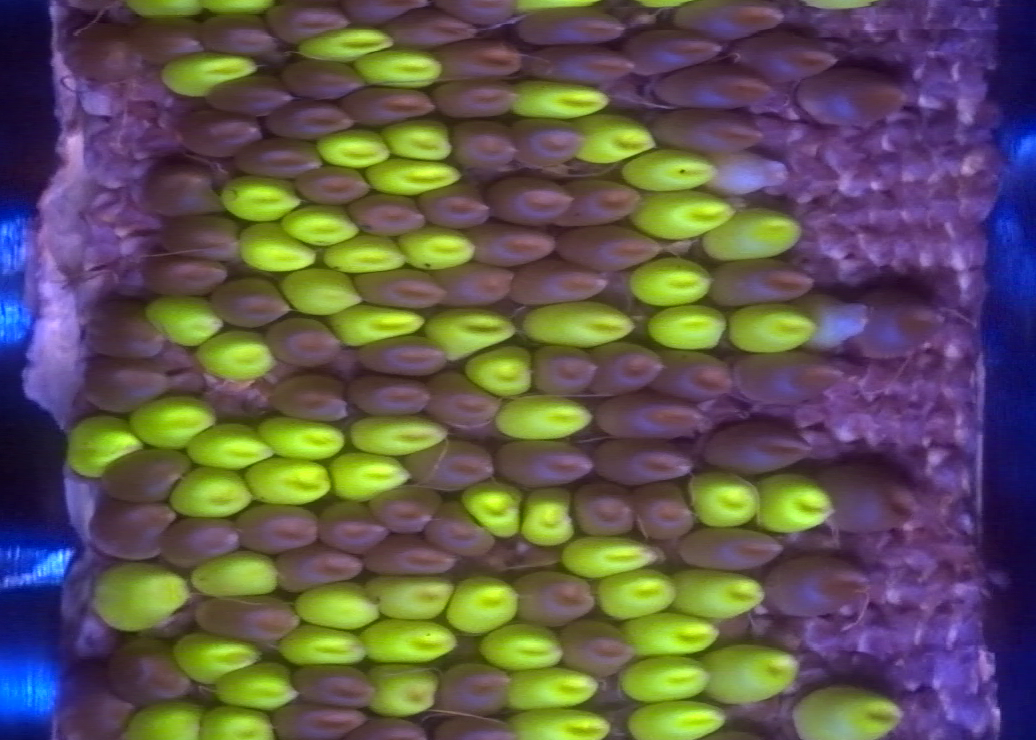fluorescent: (631, 188, 736, 240), (792, 691, 899, 738), (670, 567, 766, 618), (95, 567, 185, 621), (702, 650, 793, 703), (524, 302, 634, 344), (755, 476, 833, 534), (165, 467, 250, 519), (174, 634, 263, 682), (706, 213, 800, 258), (687, 467, 757, 527), (424, 309, 517, 354), (353, 411, 442, 458), (730, 301, 815, 350), (262, 412, 344, 462), (242, 460, 331, 506), (367, 573, 452, 620), (68, 416, 137, 473), (567, 115, 653, 159), (334, 300, 422, 343), (158, 54, 252, 94), (493, 395, 587, 435), (502, 667, 595, 707), (130, 400, 216, 443), (361, 624, 460, 661), (328, 454, 411, 497), (217, 661, 298, 705), (242, 221, 317, 268), (625, 615, 719, 652), (281, 627, 369, 666), (563, 540, 655, 577), (221, 174, 300, 217), (629, 262, 709, 304), (189, 558, 285, 593), (298, 586, 378, 628), (146, 300, 222, 344), (619, 660, 702, 700), (451, 580, 516, 631), (189, 427, 266, 470), (623, 152, 712, 189), (464, 484, 521, 541), (646, 308, 723, 350), (286, 269, 360, 312), (599, 575, 673, 618), (508, 83, 607, 115), (198, 341, 281, 379), (365, 162, 460, 195), (624, 709, 724, 739), (398, 229, 476, 266), (356, 53, 443, 86), (477, 627, 564, 660), (369, 672, 437, 714), (117, 704, 206, 735), (465, 350, 532, 391), (522, 490, 574, 542), (298, 29, 394, 57), (325, 238, 407, 269), (284, 209, 358, 243), (319, 130, 388, 165), (381, 123, 450, 158), (510, 712, 608, 736), (198, 712, 274, 738), (123, 2, 202, 15), (198, 2, 273, 13)
nonfluorescent: (848, 279, 955, 359), (697, 409, 819, 474), (771, 549, 873, 624), (818, 461, 916, 539), (52, 656, 138, 739), (794, 65, 908, 127), (735, 349, 849, 409), (654, 64, 783, 115), (188, 590, 308, 643), (104, 634, 196, 701), (646, 104, 769, 154), (730, 27, 840, 82), (586, 393, 712, 441), (82, 503, 184, 561), (99, 443, 190, 508), (555, 220, 665, 273), (703, 259, 821, 308), (509, 566, 600, 628), (77, 356, 172, 415), (490, 437, 596, 489), (142, 153, 227, 217), (655, 342, 737, 408), (590, 435, 696, 486), (585, 337, 668, 402), (670, 524, 789, 569), (352, 332, 453, 384), (404, 437, 496, 493), (163, 504, 243, 568), (82, 299, 167, 359), (419, 369, 504, 429), (263, 369, 354, 425), (485, 173, 578, 227), (261, 313, 346, 372), (516, 8, 632, 51), (272, 540, 366, 593), (169, 106, 267, 156), (288, 658, 382, 710), (557, 613, 632, 678), (564, 173, 645, 233), (521, 44, 641, 84), (153, 214, 252, 262), (66, 16, 141, 79), (629, 29, 725, 78), (348, 264, 448, 311), (507, 257, 607, 304), (262, 97, 359, 144), (361, 537, 457, 584), (347, 369, 436, 419), (211, 275, 295, 327), (468, 221, 557, 270), (674, 1, 783, 41), (423, 500, 495, 560), (236, 500, 319, 552), (432, 660, 509, 715), (134, 11, 207, 69), (415, 178, 493, 232), (366, 482, 443, 536), (233, 137, 327, 181), (267, 697, 363, 740), (514, 116, 589, 171), (528, 338, 599, 396), (431, 77, 520, 123), (199, 10, 279, 61), (266, 1, 350, 49), (134, 251, 230, 293), (341, 190, 428, 236), (440, 35, 523, 83), (274, 60, 366, 103), (437, 262, 516, 312), (570, 479, 637, 537), (629, 482, 697, 539), (341, 84, 440, 123), (448, 118, 518, 173), (319, 500, 389, 554), (384, 7, 473, 48), (204, 73, 297, 112), (332, 1, 426, 33), (298, 162, 371, 202), (430, 713, 509, 740), (350, 716, 428, 740)
